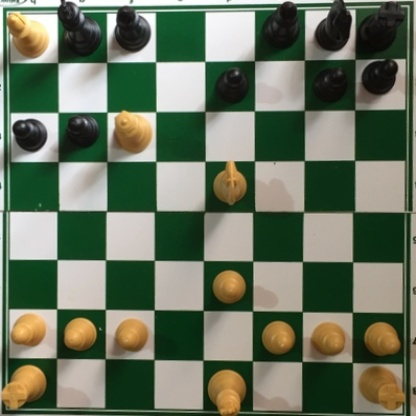black-bishop: (113, 3, 153, 53), (262, 1, 300, 49)
black-king: (57, 1, 103, 57)
black-knight: (315, 1, 353, 54)
black-pawn: (361, 56, 399, 96), (213, 65, 249, 105), (310, 65, 346, 104), (63, 114, 101, 149), (10, 118, 47, 153)
black-rook: (355, 1, 405, 53)
white-bishop: (4, 8, 50, 59)
white-king: (205, 360, 247, 416)
white-knight: (212, 157, 248, 205)
white-pawn: (9, 306, 49, 349), (361, 319, 403, 357), (61, 315, 101, 352), (308, 319, 346, 357), (112, 317, 151, 352), (260, 319, 297, 355), (211, 270, 248, 305)
white-queen: (112, 109, 153, 155)
white-rook: (356, 362, 407, 412), (1, 361, 49, 410)
